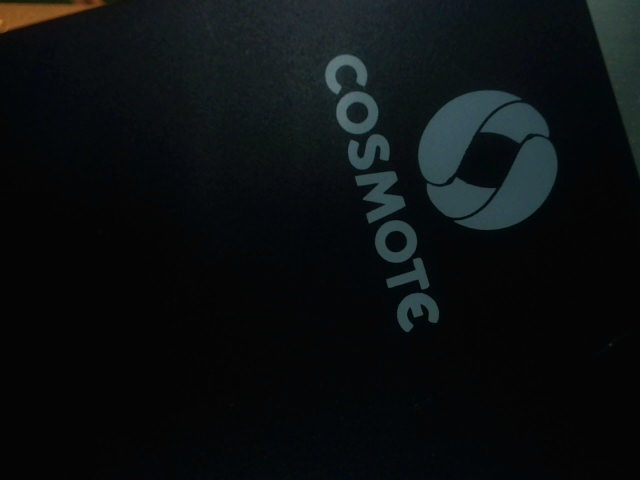AU_COSMOTE: (305, 42, 561, 324)
